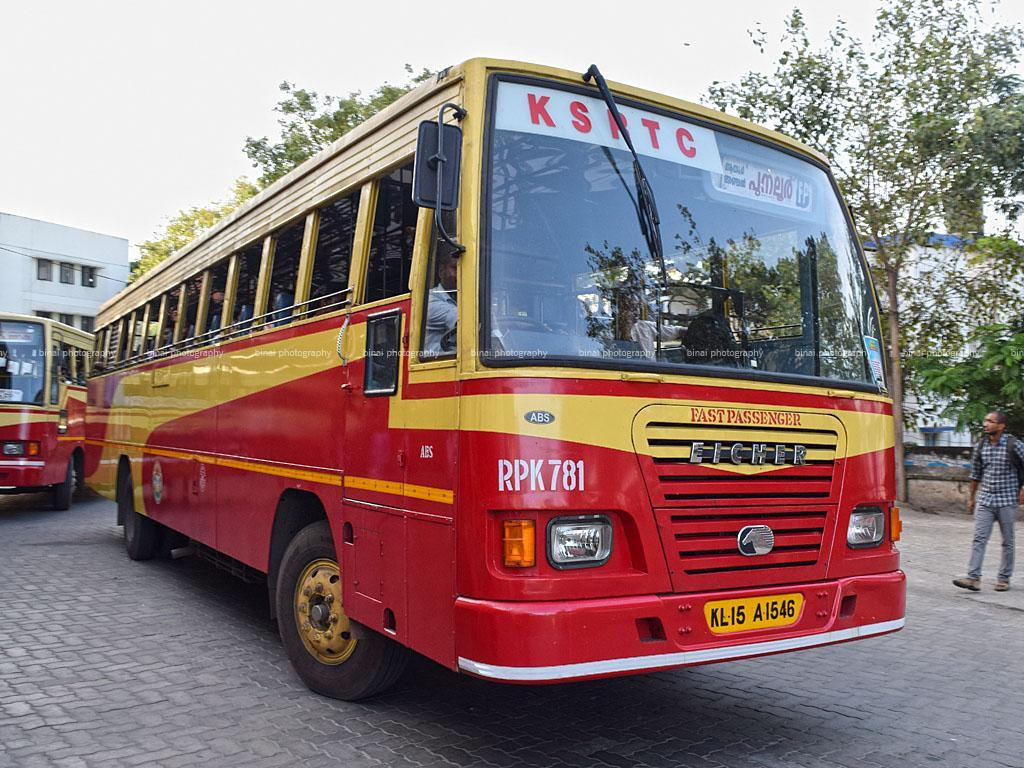Bus: (87, 59, 909, 705), (517, 84, 709, 161)
